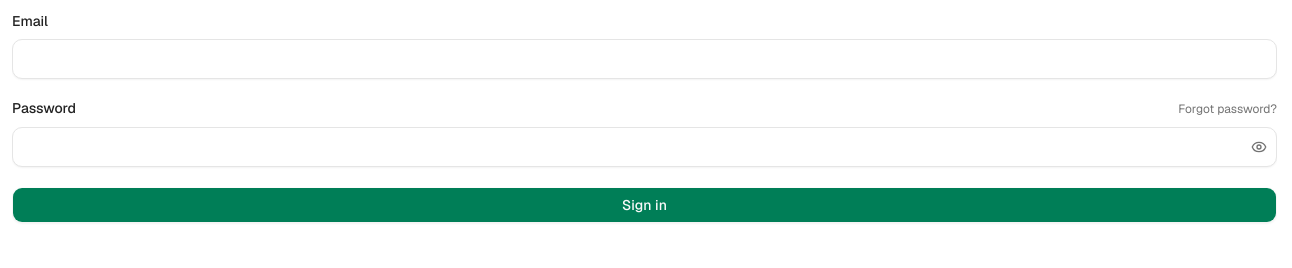
Test case: LoginForm live validation › validates as the user types after the first blur
The image size is (1292, 268).
Type "bad" into the field labelled "Email" at [644, 59], box [12, 39, 1277, 79]
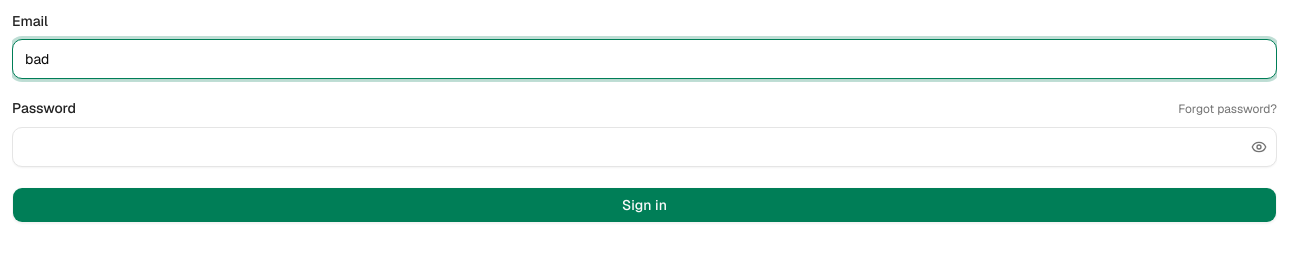
Press Tab
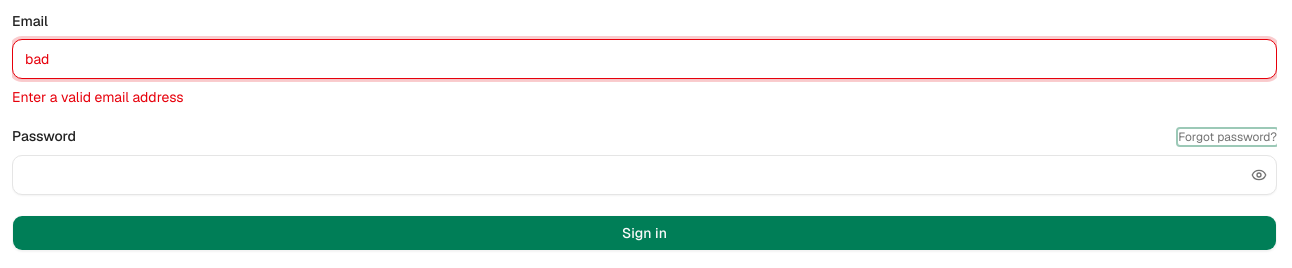
Check: the text "Enter a valid email address" is shown, box [12, 88, 184, 106]
Type "@example.com" into the field labelled "Email" at [644, 59], box [12, 39, 1277, 79]
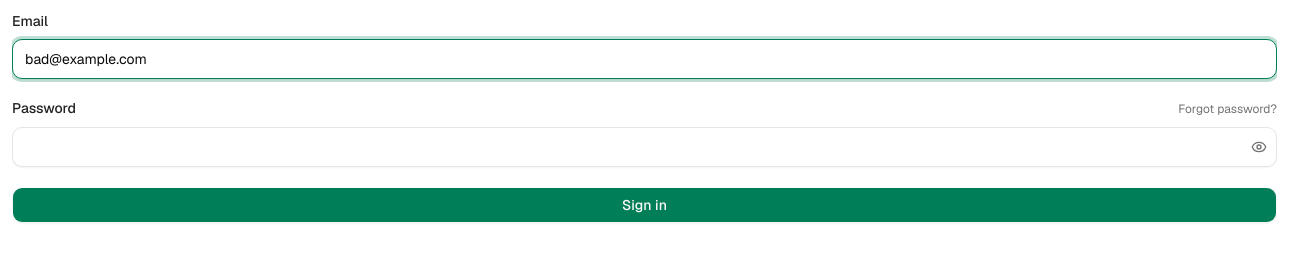
Check: the text "valid email" is gone
